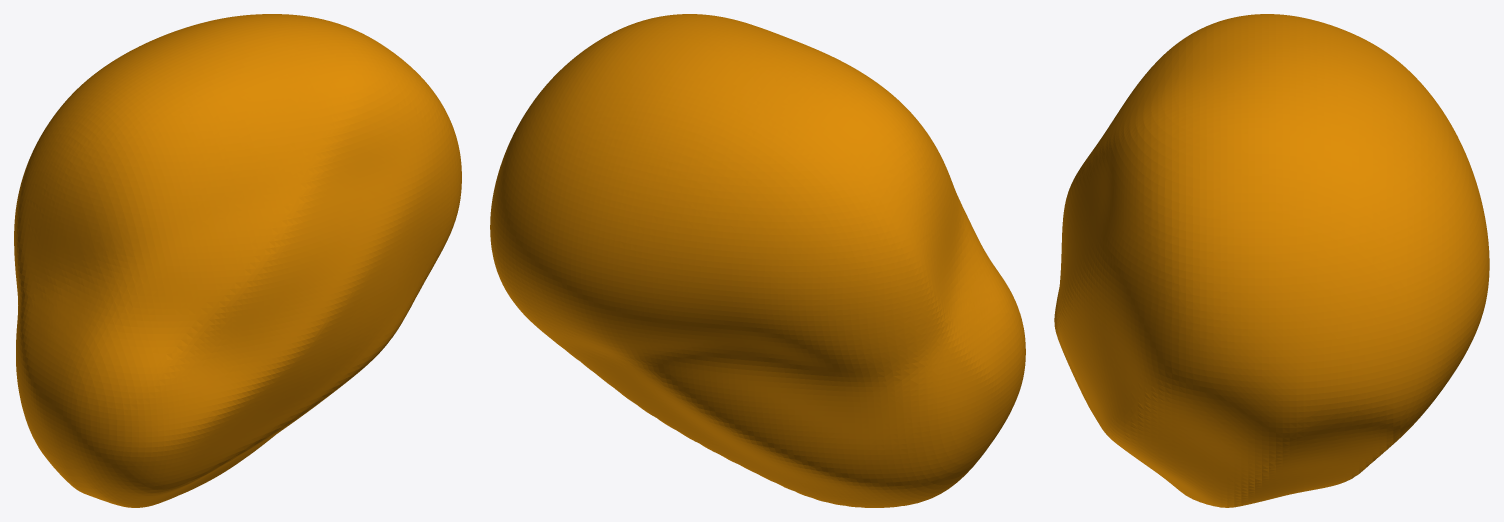
The model's file is hand_part_13.glb.
3 views of the same model, side by side, from view 1: azimuth 30°, elevation 25°; view 2: azimuth 150°, elevation 25°; view 3: azimuth 270°, elevation 25° (orthographic). The views are drawn at different scales.
Size of the model in its own units: 0.05 by 0.0455 by 0.0365.
